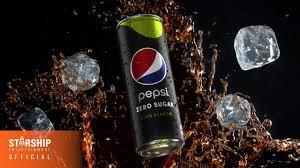pepsi_zero: (116, 19, 183, 150)
